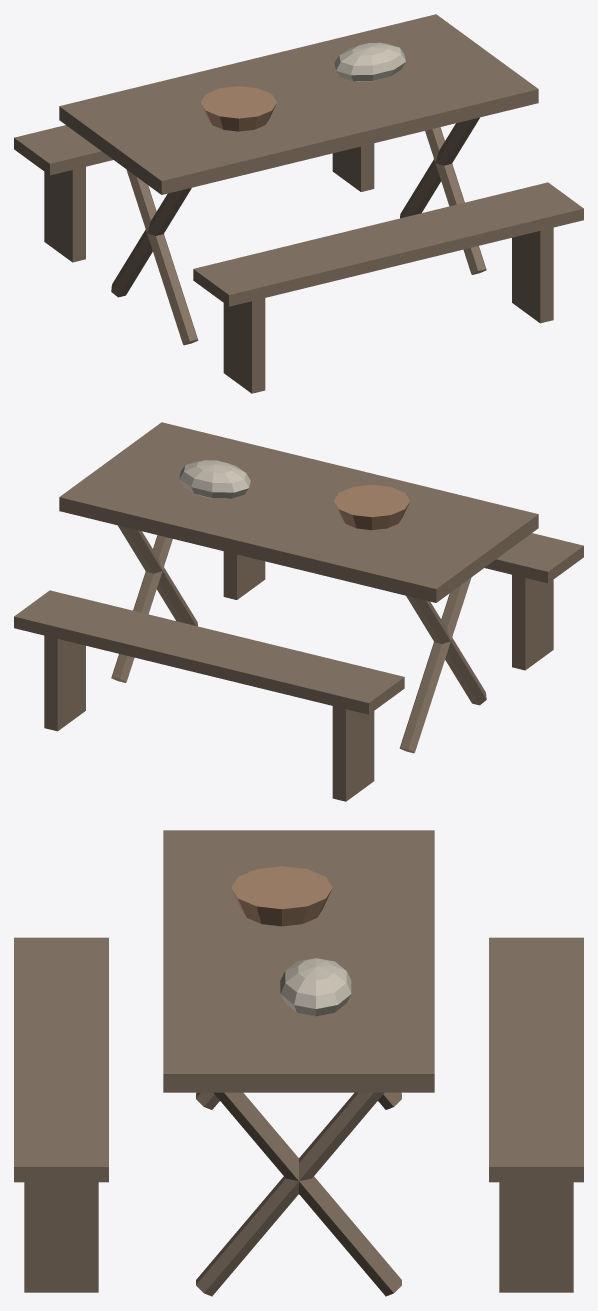
The model's file is IzbaTable.fbx.
3 views of the same model, one above another, from view 1: azimuth 30°, elevation 25°; view 2: azimuth 150°, elevation 25°; view 3: azimuth 270°, elevation 25° (orthographic). The views are drawn at different scales.
Parts seen in each view (by area): view 1: IzbaTable; view 2: IzbaTable; view 3: IzbaTable.
Boxes of the visible parts, box(x1,y1,x2,y2) form: IzbaTable: box(14, 14, 583, 393); IzbaTable: box(14, 422, 583, 801); IzbaTable: box(14, 830, 583, 1296).
Bounding box in the file's own units: 170 × 92.44 × 168.
